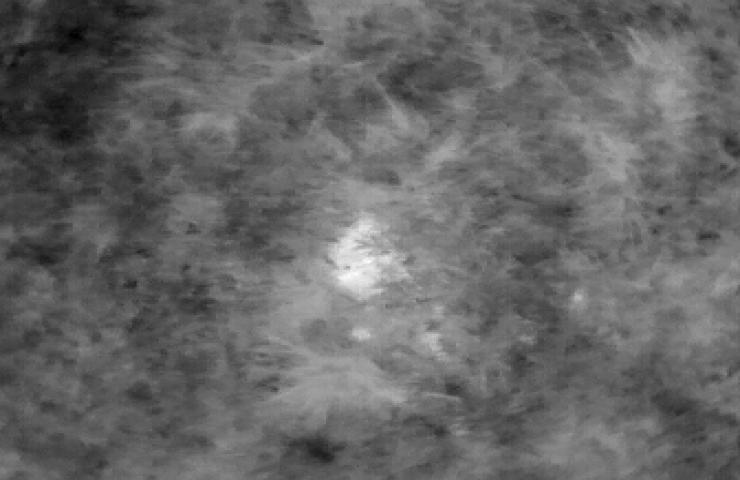landmines: (327, 213, 415, 306)
